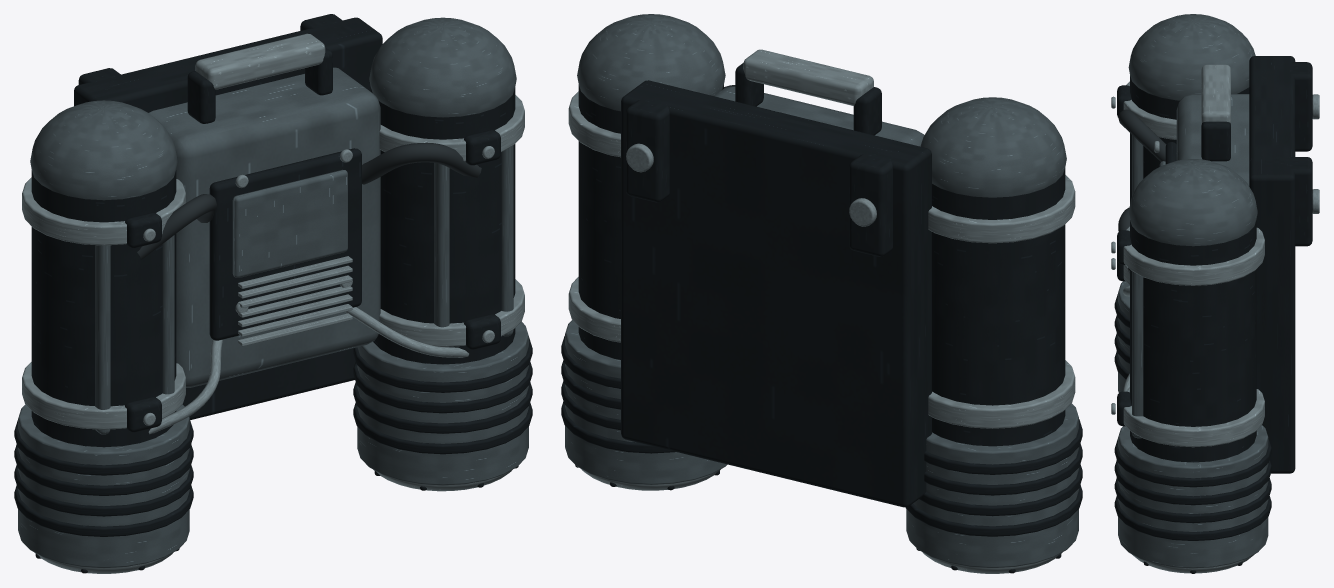
File: enemy_scout_jetpack.glb
3 renders of one model, left to right at view 1: azimuth 30°, elevation 25°; view 2: azimuth 150°, elevation 25°; view 3: azimuth 270°, elevation 25°, orthographic. The views are drawn at different scales.
Parts seen in each view (by area): view 1: Armored tank dome, Carry handle upright, Carry handle upper, Braided propellant line; view 2: Carry handle upright, Armored tank dome, Carry handle upper; view 3: Carry handle upright, Armored tank dome, Carry handle upper, Braided propellant line.
Part boxes in pixels (x1,y1,x2,y2): Armored tank dome: (18, 17, 528, 568); Carry handle upright: (14, 14, 532, 573); Carry handle upper: (22, 33, 524, 573); Braided propellant line: (137, 142, 481, 259); Carry handle upright: (561, 63, 1082, 573); Armored tank dome: (565, 14, 1078, 567); Carry handle upper: (568, 49, 1075, 573); Carry handle upright: (1114, 56, 1312, 573); Armored tank dome: (1118, 14, 1268, 568); Carry handle upper: (1111, 64, 1319, 573); Braided propellant line: (1118, 109, 1166, 273).
Bounding box in the file's own units: 0.758 × 0.6501 × 0.3165.
Materials: 5 (3 with a texture image).
